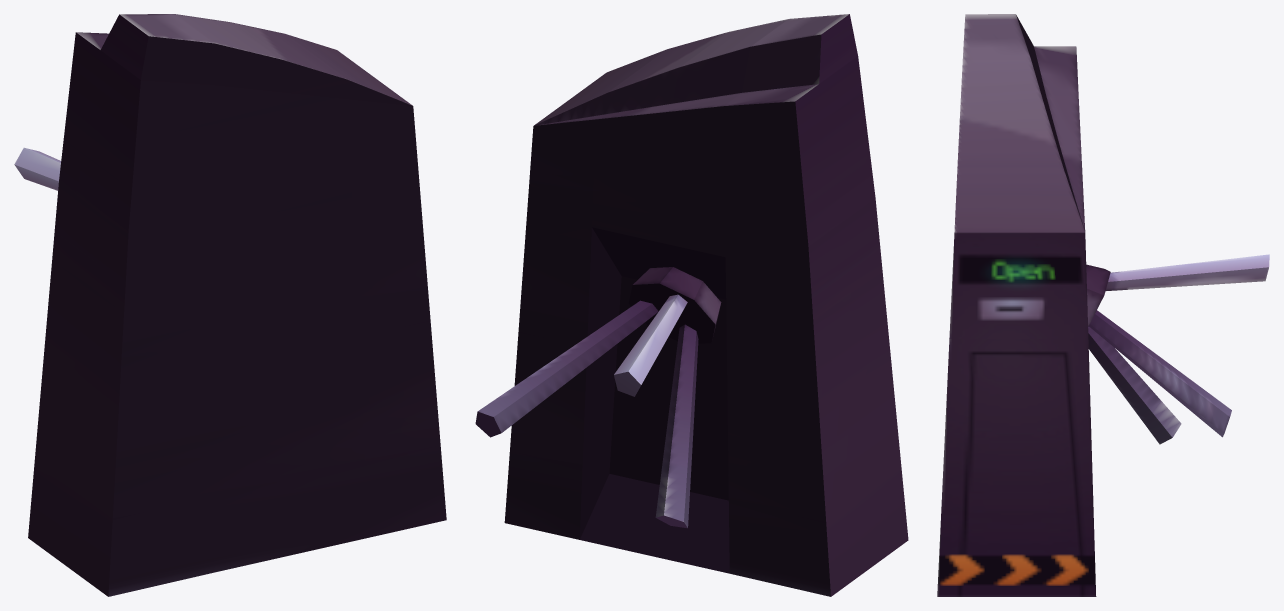
The model's file is Maquina_pasa_billete.fbx.
3 views of the same model, side by side, from view 1: azimuth 30°, elevation 25°; view 2: azimuth 150°, elevation 25°; view 3: azimuth 270°, elevation 25° (orthographic). The views are drawn at different scales.
Parts seen in each view (by area): view 1: Cube.036; view 2: Cube.036; view 3: Cube.036.
Part boxes in pixels (left/top/right/bottom): Cube.036: left=14, top=14, right=446, bottom=596; Cube.036: left=475, top=14, right=908, bottom=596; Cube.036: left=937, top=14, right=1269, bottom=596.
Size of the model in its own units: 37.54 by 58.44 by 37.88.
